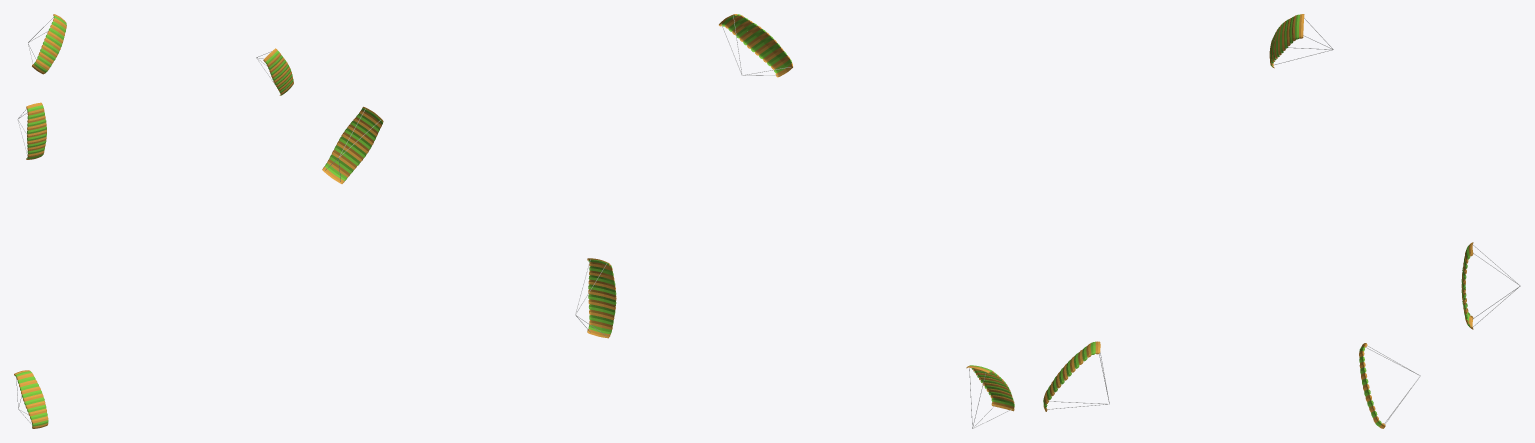
File: Alice Parachutes Unity.fbx
3 views of the same model, side by side, from view 1: azimuth 30°, elevation 25°; view 2: azimuth 150°, elevation 25°; view 3: azimuth 270°, elevation 25° (orthographic). The views are drawn at different scales.
Visible parts, largest first — view 1: para1, para2, cable; view 2: para1, para2, cable; view 3: para1, para2, cable.
Boxes of the visible parts, x1,y1,x2,y2 form: para1: (14, 14, 293, 428); para2: (15, 15, 293, 426); cable: (16, 17, 275, 424); para1: (322, 14, 1014, 411); para2: (324, 14, 1014, 406); cable: (325, 16, 1011, 428); para1: (1043, 14, 1473, 428); para2: (1043, 14, 1470, 426); cable: (1047, 18, 1520, 424).
Bounding box in the file's own units: 282 × 229 × 213.
